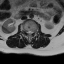CCS_normal: (29, 29, 30, 36)
LFS_normal: (32, 29, 34, 34)
LLS_normal: (30, 30, 32, 35)
RFS_normal: (25, 29, 27, 34)
RLS_normal: (27, 30, 29, 35)
